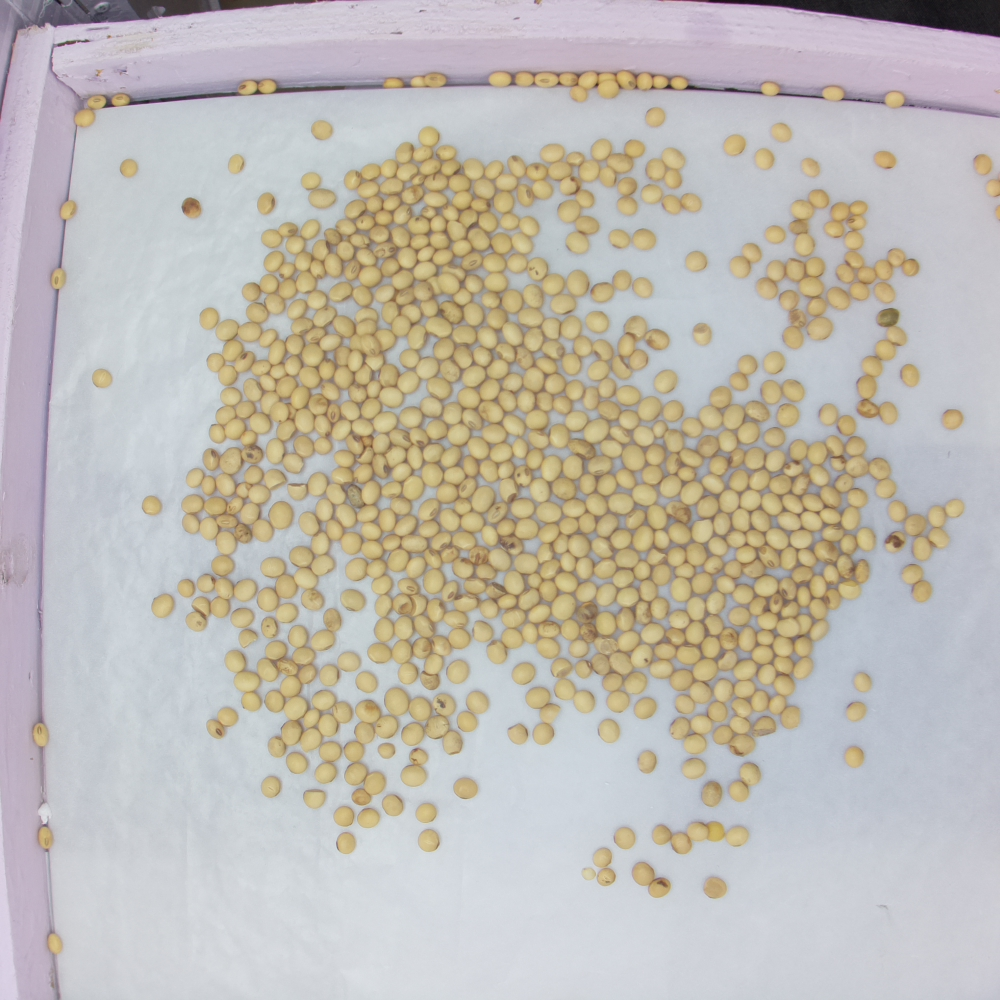soya: (551, 594, 577, 620), (269, 502, 293, 530), (385, 688, 408, 715), (654, 369, 678, 394), (567, 269, 589, 296), (585, 419, 610, 442), (827, 288, 850, 313), (693, 659, 719, 681), (550, 294, 577, 315), (308, 189, 336, 209), (611, 356, 634, 380), (290, 545, 313, 569), (150, 594, 173, 618), (638, 396, 660, 421), (623, 445, 645, 470), (610, 493, 635, 515), (569, 533, 591, 558), (630, 644, 652, 669), (401, 765, 427, 786), (702, 781, 722, 808), (699, 406, 722, 429), (537, 637, 560, 660), (440, 301, 463, 324), (425, 716, 448, 739), (597, 514, 620, 537), (766, 527, 789, 550), (689, 682, 712, 705), (737, 422, 759, 446), (427, 378, 451, 400), (454, 778, 478, 800), (417, 830, 441, 852), (340, 590, 364, 612), (740, 762, 762, 786), (645, 329, 670, 350), (427, 317, 452, 338), (479, 401, 504, 422), (502, 416, 527, 437), (367, 643, 392, 664), (607, 154, 633, 174), (473, 486, 492, 513), (215, 319, 238, 341), (633, 229, 656, 251), (492, 192, 515, 214), (467, 437, 489, 460), (345, 558, 367, 581), (448, 422, 470, 445), (384, 445, 406, 468), (662, 147, 686, 168), (724, 405, 745, 429), (542, 455, 560, 483), (422, 570, 443, 594), (624, 673, 648, 694), (634, 697, 655, 721), (460, 511, 485, 531), (221, 448, 241, 473), (625, 316, 644, 342), (586, 311, 608, 333), (709, 386, 731, 408), (778, 404, 800, 426), (516, 518, 538, 540), (398, 372, 420, 394), (375, 716, 397, 738), (586, 494, 608, 516), (668, 523, 690, 545), (683, 758, 705, 780), (727, 827, 749, 849), (704, 876, 726, 898), (633, 863, 655, 885), (245, 302, 268, 323), (591, 139, 612, 162), (558, 200, 579, 223), (560, 316, 581, 339), (617, 385, 640, 406), (697, 436, 720, 457), (783, 379, 804, 402), (746, 401, 769, 422), (632, 425, 655, 446), (502, 323, 523, 346), (439, 360, 460, 383), (409, 698, 430, 721), (403, 476, 424, 499), (333, 316, 356, 337), (335, 504, 356, 527), (311, 555, 334, 576), (692, 519, 712, 543), (761, 380, 781, 404), (472, 179, 496, 199), (511, 498, 535, 518), (423, 463, 443, 487), (230, 608, 254, 628), (281, 721, 301, 745), (257, 660, 277, 684), (345, 763, 365, 787), (552, 479, 576, 499), (574, 690, 594, 714), (758, 546, 778, 570), (648, 878, 672, 898), (481, 425, 506, 444), (752, 577, 778, 595), (311, 120, 333, 141), (234, 351, 255, 373), (360, 266, 382, 287), (567, 232, 588, 254), (463, 366, 485, 387), (469, 229, 491, 250), (446, 220, 468, 241), (526, 410, 548, 431), (513, 663, 534, 685), (466, 691, 487, 713), (416, 358, 438, 379), (395, 515, 417, 536), (374, 412, 396, 433), (380, 387, 402, 408), (212, 556, 234, 577), (295, 568, 317, 589), (596, 584, 617, 606), (608, 692, 629, 714), (660, 476, 681, 498), (792, 658, 814, 679), (671, 669, 693, 690), (809, 318, 830, 340), (615, 196, 638, 216), (762, 493, 782, 516), (524, 368, 544, 391), (523, 285, 543, 308), (502, 290, 522, 313), (520, 308, 543, 328), (537, 502, 560, 522), (526, 688, 549, 708), (420, 397, 443, 417), (402, 723, 422, 746), (235, 672, 258, 692), (295, 410, 315, 433), (634, 485, 657, 505), (599, 719, 619, 742), (856, 528, 875, 552), (394, 616, 413, 640), (374, 617, 393, 641), (361, 481, 380, 505), (301, 728, 320, 752), (549, 424, 568, 448), (591, 538, 615, 557), (647, 505, 666, 529), (685, 621, 704, 645), (403, 535, 428, 553), (259, 588, 277, 613), (266, 439, 283, 465), (686, 251, 707, 272), (764, 352, 785, 373), (724, 135, 745, 156), (869, 458, 890, 479), (740, 490, 761, 511), (459, 388, 480, 409), (414, 281, 435, 302), (417, 499, 438, 520), (489, 549, 510, 570), (400, 407, 421, 428), (356, 672, 377, 693), (333, 807, 354, 828), (382, 795, 403, 816), (356, 701, 377, 722), (299, 367, 320, 388), (216, 533, 237, 554), (669, 717, 690, 738), (344, 200, 366, 220), (296, 271, 316, 293), (418, 126, 440, 146), (463, 158, 483, 180), (593, 339, 613, 361), (591, 282, 613, 302), (578, 161, 600, 181), (702, 474, 724, 494), (847, 488, 869, 508), (697, 496, 717, 518), (463, 303, 483, 325), (448, 661, 468, 683), (453, 530, 475, 550), (473, 620, 493, 642), (448, 629, 470, 649), (287, 753, 307, 775), (276, 575, 296, 597), (312, 631, 334, 651), (364, 773, 384, 795), (290, 387, 310, 409), (554, 573, 576, 593), (529, 604, 551, 624), (728, 468, 748, 490), (714, 679, 734, 701), (729, 782, 751, 802), (614, 828, 636, 848), (238, 323, 261, 342), (541, 143, 564, 162), (818, 403, 837, 426), (485, 273, 508, 292), (531, 478, 550, 501), (505, 571, 524, 594), (486, 641, 505, 664), (486, 359, 509, 378), (393, 640, 412, 663), (429, 532, 452, 551), (299, 512, 318, 535), (334, 367, 353, 390), (253, 520, 272, 543), (261, 558, 284, 577), (616, 549, 639, 568), (633, 526, 652, 549), (616, 588, 639, 607), (687, 543, 706, 566), (846, 457, 869, 476), (801, 277, 824, 296), (576, 215, 600, 233), (786, 258, 804, 282), (500, 478, 518, 502), (321, 664, 339, 688), (616, 632, 640, 650), (671, 577, 689, 601), (265, 293, 285, 314), (287, 299, 307, 320), (222, 340, 242, 361), (633, 278, 653, 299), (609, 229, 629, 250), (681, 193, 702, 213), (641, 184, 662, 204), (543, 274, 564, 294), (757, 278, 777, 299), (512, 233, 533, 253), (439, 274, 460, 294), (528, 430, 549, 450), (507, 723, 527, 744), (533, 724, 554, 744), (372, 575, 393, 595), (442, 447, 462, 468), (326, 484, 347, 504), (301, 590, 322, 610), (577, 581, 597, 602), (518, 589, 538, 610), (751, 510, 771, 531), (685, 735, 706, 755), (707, 822, 727, 843), (906, 515, 926, 536), (264, 251, 283, 273), (330, 282, 352, 301), (507, 155, 526, 177), (528, 258, 547, 280), (664, 400, 683, 422), (562, 354, 581, 376), (573, 335, 592, 357), (665, 430, 684, 452), (783, 327, 802, 349), (792, 200, 814, 219), (795, 234, 814, 256), (746, 448, 765, 470), (490, 443, 512, 462), (484, 254, 506, 273), (440, 509, 459, 531), (503, 609, 525, 628), (501, 373, 523, 392), (462, 408, 481, 430), (341, 532, 360, 554), (276, 603, 298, 622), (338, 653, 360, 672), (181, 495, 203, 514), (563, 455, 582, 477), (610, 529, 632, 548), (570, 536, 589, 558), (541, 558, 560, 580), (719, 490, 738, 512), (821, 486, 840, 508), (789, 530, 811, 549), (611, 653, 630, 675), (693, 573, 712, 595), (734, 660, 756, 679), (672, 832, 691, 854), (928, 530, 950, 549), (200, 307, 218, 330), (693, 323, 711, 346), (767, 260, 785, 283), (515, 555, 538, 573), (389, 549, 407, 572), (243, 379, 261, 402), (687, 597, 705, 620), (418, 158, 442, 175), (549, 163, 573, 180), (408, 325, 425, 349), (380, 364, 397, 388), (308, 472, 325, 496), (324, 609, 341, 633), (589, 457, 613, 474), (733, 508, 750, 532), (639, 750, 656, 774), (390, 227, 410, 247), (519, 216, 539, 236), (619, 409, 639, 429), (491, 233, 511, 253), (478, 212, 498, 232), (398, 248, 418, 268), (453, 558, 473, 578), (427, 598, 443, 623), (360, 335, 380, 355), (268, 340, 284, 365), (225, 651, 245, 671), (142, 497, 162, 517), (774, 676, 794, 696), (257, 193, 276, 214), (218, 365, 237, 386), (409, 216, 430, 235), (589, 361, 610, 380), (731, 257, 750, 278), (755, 149, 774, 170), (837, 415, 856, 436), (598, 401, 619, 420), (426, 420, 447, 439), (314, 307, 335, 326), (235, 580, 254, 601), (313, 690, 334, 709), (315, 763, 336, 782), (345, 742, 364, 763), (354, 723, 373, 744), (431, 637, 452, 656), (249, 413, 270, 432), (594, 559, 615, 578), (651, 660, 672, 679), (642, 624, 663, 643), (770, 474, 791, 493), (810, 465, 829, 486), (815, 543, 836, 562), (707, 593, 726, 614), (396, 163, 418, 181), (402, 186, 424, 204), (808, 442, 826, 464), (524, 328, 542, 350), (499, 389, 517, 411), (443, 402, 461, 424), (324, 254, 342, 276), (358, 505, 380, 523), (597, 612, 615, 634), (561, 619, 579, 641), (802, 512, 824, 530), (928, 505, 946, 527), (838, 582, 860, 600), (846, 746, 864, 768), (381, 179, 404, 196), (414, 261, 437, 278), (444, 611, 467, 628), (445, 732, 462, 755), (425, 653, 442, 676), (564, 413, 587, 430), (611, 569, 634, 586), (678, 646, 701, 663), (738, 627, 755, 650), (880, 402, 897, 425), (301, 219, 320, 239), (646, 107, 665, 127), (738, 355, 757, 375), (742, 243, 761, 263), (772, 123, 791, 143), (806, 257, 825, 277), (765, 427, 784, 447), (507, 254, 527, 273), (434, 339, 453, 359), (464, 275, 484, 294), (488, 503, 507, 523), (458, 712, 477, 732), (479, 599, 498, 619), (398, 664, 417, 684), (402, 304, 422, 323), (416, 804, 436, 823), (380, 258, 399, 278), (361, 523, 381, 542), (319, 715, 338, 735), (358, 808, 378, 827), (601, 439, 621, 458), (615, 470, 635, 489), (627, 510, 646, 530), (554, 681, 574, 700), (688, 822, 708, 841), (652, 825, 671, 845), (888, 502, 907, 522), (780, 708, 799, 728), (646, 159, 664, 180), (542, 318, 560, 339), (826, 436, 844, 457), (766, 451, 784, 472), (474, 346, 492, 367), (480, 461, 498, 482), (408, 557, 426, 578), (376, 330, 394, 351), (389, 430, 410, 448), (277, 420, 295, 441), (289, 626, 307, 647), (226, 419, 244, 440), (597, 474, 615, 495), (902, 365, 920, 386), (395, 141, 412, 163), (631, 349, 648, 371), (680, 449, 702, 466), (481, 379, 498, 401), (310, 394, 327, 416), (651, 598, 668, 620), (842, 508, 859, 530), (776, 619, 798, 636), (718, 576, 740, 593), (858, 376, 875, 398), (357, 182, 380, 198), (331, 468, 354, 484), (203, 448, 219, 471), (353, 287, 372, 306), (394, 205, 413, 224), (664, 169, 683, 188), (496, 344, 515, 363), (478, 328, 497, 347), (469, 546, 488, 565), (400, 349, 419, 368), (284, 454, 303, 473), (244, 465, 263, 484), (593, 848, 612, 867), (810, 190, 829, 209), (943, 410, 962, 429), (613, 270, 631, 290), (663, 195, 681, 215), (765, 225, 785, 243), (454, 347, 472, 367), (463, 455, 478, 479), (487, 310, 507, 328), (541, 704, 559, 724), (367, 560, 387, 578), (306, 291, 326, 309), (408, 445, 423, 469), (332, 420, 350, 440), (319, 335, 343, 350), (218, 708, 238, 726), (262, 777, 280, 797), (265, 691, 283, 711), (337, 833, 355, 853), (217, 475, 235, 495), (610, 426, 630, 444), (539, 523, 559, 541), (540, 581, 558, 601), (652, 566, 670, 586), (782, 496, 802, 514), (675, 696, 695, 714), (730, 607, 750, 625), (708, 703, 728, 721), (876, 283, 894, 303), (527, 163, 548, 180), (624, 140, 645, 157), (681, 419, 702, 436), (515, 347, 532, 368), (496, 175, 517, 192), (429, 232, 450, 249), (518, 390, 535, 411), (464, 578, 485, 595), (361, 542, 382, 559), (346, 433, 363, 454), (220, 388, 241, 405), (271, 402, 288, 423), (319, 743, 340, 760), (398, 579, 419, 596), (579, 513, 596, 534), (617, 609, 634, 630), (903, 563, 920, 584), (854, 672, 871, 693), (449, 175, 471, 191), (527, 448, 543, 470), (512, 437, 528, 459), (418, 521, 440, 537), (380, 482, 402, 498), (563, 500, 585, 516), (779, 513, 801, 529), (916, 580, 932, 602), (752, 691, 768, 713), (559, 179, 582, 194), (522, 622, 537, 645), (380, 510, 395, 533), (290, 319, 313, 334), (119, 159, 138, 177), (262, 229, 281, 247), (259, 329, 277, 348), (206, 353, 224, 372), (599, 379, 617, 398), (503, 629, 521, 648), (357, 319, 376, 337), (361, 400, 379, 419), (321, 382, 339, 401), (242, 693, 260, 712), (266, 641, 285, 659), (183, 515, 201, 534), (559, 517, 578, 535), (667, 546, 685, 565), (643, 466, 661, 485), (797, 549, 816, 567), (691, 716, 710, 734), (863, 357, 881, 376), (732, 699, 751, 717), (374, 285, 394, 302), (566, 380, 583, 400), (710, 455, 727, 475), (437, 484, 457, 501), (498, 518, 515, 538), (391, 498, 411, 515), (304, 790, 324, 807), (577, 560, 594, 580), (560, 553, 577, 573), (730, 717, 750, 734), (887, 327, 907, 344), (847, 702, 864, 722), (285, 237, 306, 253), (517, 185, 533, 206), (790, 439, 806, 460), (729, 449, 745, 470), (433, 249, 454, 265), (481, 525, 497, 546), (424, 549, 440, 570), (352, 419, 373, 435), (654, 644, 675, 660), (781, 547, 797, 568), (913, 537, 929, 558), (770, 694, 786, 715), (435, 145, 457, 160), (412, 146, 434, 161), (618, 333, 633, 355), (584, 387, 599, 409), (376, 595, 391, 617), (187, 468, 202, 490), (810, 575, 825, 597), (302, 172, 320, 190), (260, 275, 278, 293), (279, 280, 297, 298), (484, 160, 502, 178), (618, 177, 636, 195), (730, 373, 748, 391), (286, 337, 304, 355), (237, 400, 255, 418), (835, 475, 853, 493), (714, 726, 732, 744), (837, 264, 855, 282), (362, 164, 381, 181), (576, 190, 595, 207), (462, 253, 481, 270), (370, 226, 389, 243), (335, 450, 354, 467), (268, 737, 285, 756), (746, 530, 765, 547), (877, 479, 894, 498), (592, 655, 609, 674), (875, 260, 892, 279), (228, 154, 244, 174), (441, 160, 461, 176), (720, 431, 736, 451), (392, 466, 412, 482), (317, 500, 333, 520), (277, 379, 293, 399), (536, 392, 552, 412), (604, 672, 620, 692), (845, 253, 865, 269), (735, 681, 755, 697), (306, 328, 327, 343), (581, 474, 596, 495), (635, 602, 650, 623), (640, 580, 655, 601), (714, 513, 729, 534), (823, 526, 844, 541), (425, 192, 447, 206), (356, 308, 378, 322), (336, 346, 350, 368), (242, 282, 259, 300), (295, 252, 312, 270), (533, 180, 551, 197), (348, 384, 366, 401), (554, 396, 572, 413), (709, 538, 727, 555), (724, 560, 741, 578), (793, 566, 810, 584), (735, 585, 753, 602), (597, 869, 615, 886), (830, 203, 848, 220), (783, 602, 800, 620), (381, 159, 397, 178), (803, 158, 819, 177), (453, 240, 472, 256), (455, 288, 471, 307), (338, 242, 354, 261), (356, 464, 372, 483), (207, 720, 223, 739), (413, 639, 429, 658), (736, 546, 755, 562), (779, 579, 795, 598), (803, 495, 822, 511), (824, 222, 843, 238), (327, 520, 342, 540), (316, 417, 331, 437), (209, 423, 224, 443), (821, 509, 841, 524), (442, 581, 456, 602), (336, 220, 357, 234), (287, 356, 301, 377), (421, 300, 438, 317), (780, 291, 797, 308), (809, 299, 826, 316), (903, 259, 920, 276), (345, 171, 361, 189), (216, 407, 234, 423), (705, 557, 723, 573), (845, 233, 863, 249), (877, 342, 895, 358), (600, 167, 615, 186), (453, 498, 472, 513), (498, 595, 517, 610), (355, 216, 374, 231), (348, 351, 363, 370), (252, 360, 271, 375), (824, 566, 839, 585), (670, 611, 689, 626), (947, 499, 962, 518), (887, 248, 902, 267), (345, 260, 359, 280), (674, 565, 694, 579), (654, 530, 668, 550), (841, 534, 855, 554), (279, 262, 295, 279), (366, 197, 383, 213), (442, 204, 459, 220), (259, 375, 275, 392), (571, 641, 588, 657), (727, 531, 744, 547), (666, 629, 683, 645), (851, 284, 868, 300), (279, 222, 297, 237), (460, 479, 475, 497), (538, 544, 553, 562), (382, 535, 401, 549), (667, 452, 679, 474), (577, 660, 590, 680), (498, 463, 514, 479), (417, 246, 434, 261), (756, 630, 773, 645), (366, 380, 379, 399), (825, 590, 838, 609), (798, 588, 811, 607), (678, 467, 698, 479), (653, 422, 667, 439), (771, 595, 783, 614), (554, 536, 568, 552), (634, 562, 648, 578), (860, 267, 874, 283), (850, 201, 867, 214), (527, 573, 541, 588), (567, 152, 583, 165), (849, 217, 866, 229), (579, 868, 596, 879)
